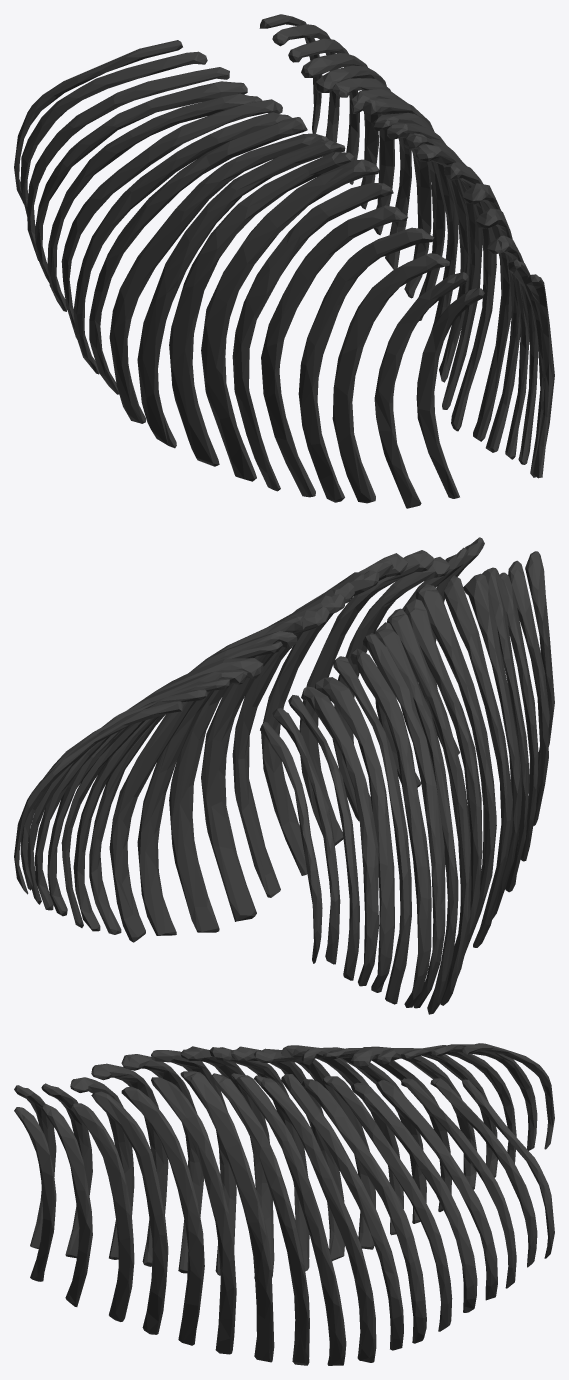
The model's file is skel_ribs.glb.
The picture shows the model from 3 angles, top to bottom: view 1: azimuth 30°, elevation 25°; view 2: azimuth 150°, elevation 25°; view 3: azimuth 270°, elevation 25°; orthographic projection. The views are drawn at different scales.
Visible parts, largest first — view 1: skel_ribs; view 2: skel_ribs; view 3: skel_ribs.
Boxes of the visible parts, left/top/right/bottom form: skel_ribs: left=14, top=14, right=554, bottom=508; skel_ribs: left=14, top=537, right=554, bottom=1014; skel_ribs: left=14, top=1043, right=554, bottom=1365.
Size of the model in its own units: 0.00799 by 0.00717 by 0.0135.
Materials: 1 (1 with a texture image).
